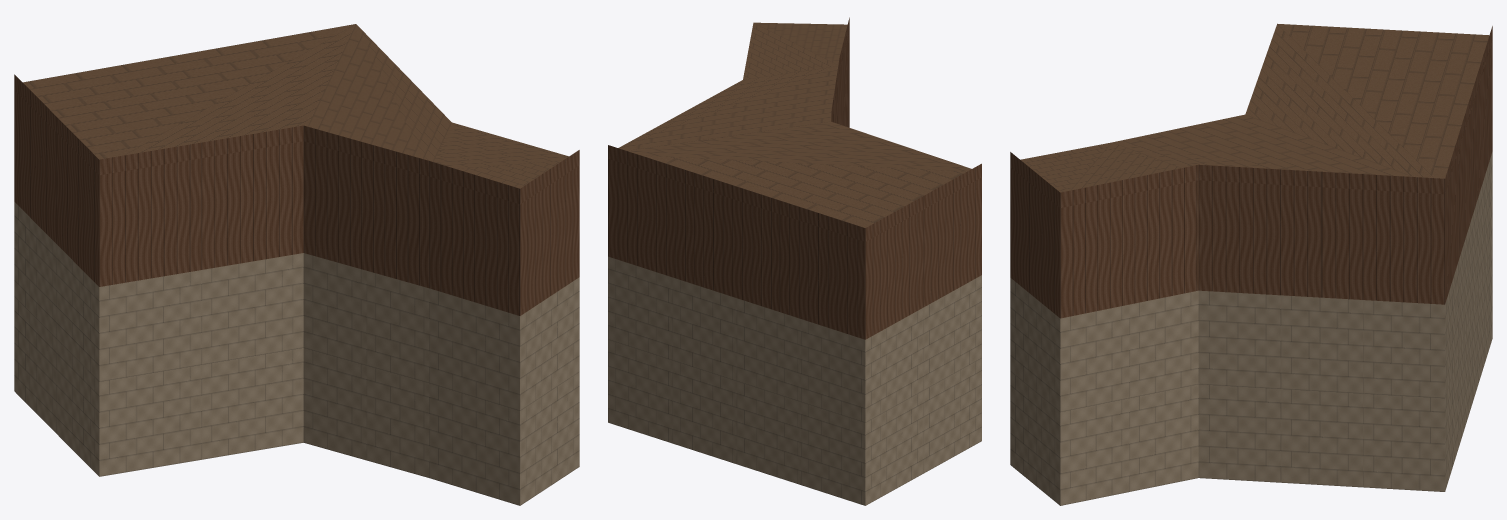
File: bld_c-2_-3_550.gltf
3 views of the same model, side by side, from view 1: azimuth 30°, elevation 25°; view 2: azimuth 150°, elevation 25°; view 3: azimuth 270°, elevation 25° (orthographic). The views are drawn at different scales.
Visible parts, largest first — view 1: bld_c-2_-3_550; view 2: bld_c-2_-3_550; view 3: bld_c-2_-3_550.
Part boxes in pixels (<box>): bld_c-2_-3_550: <box>14,24,579,505</box>; bld_c-2_-3_550: <box>608,17,981,505</box>; bld_c-2_-3_550: <box>1010,23,1492,505</box>.
Bounding box in the file's own units: 9.39 × 7.68 × 10.71.
Materials: 4 (4 with a texture image).
